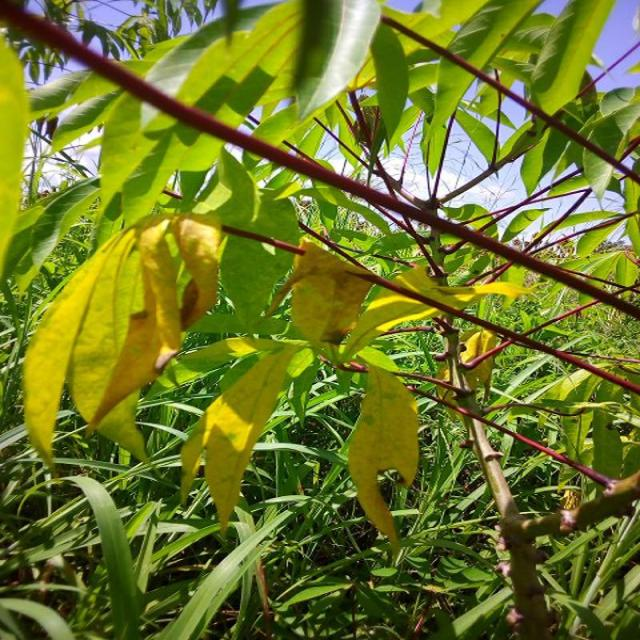cassava leaf: (22, 209, 225, 470), (178, 336, 313, 537), (346, 362, 419, 552)
